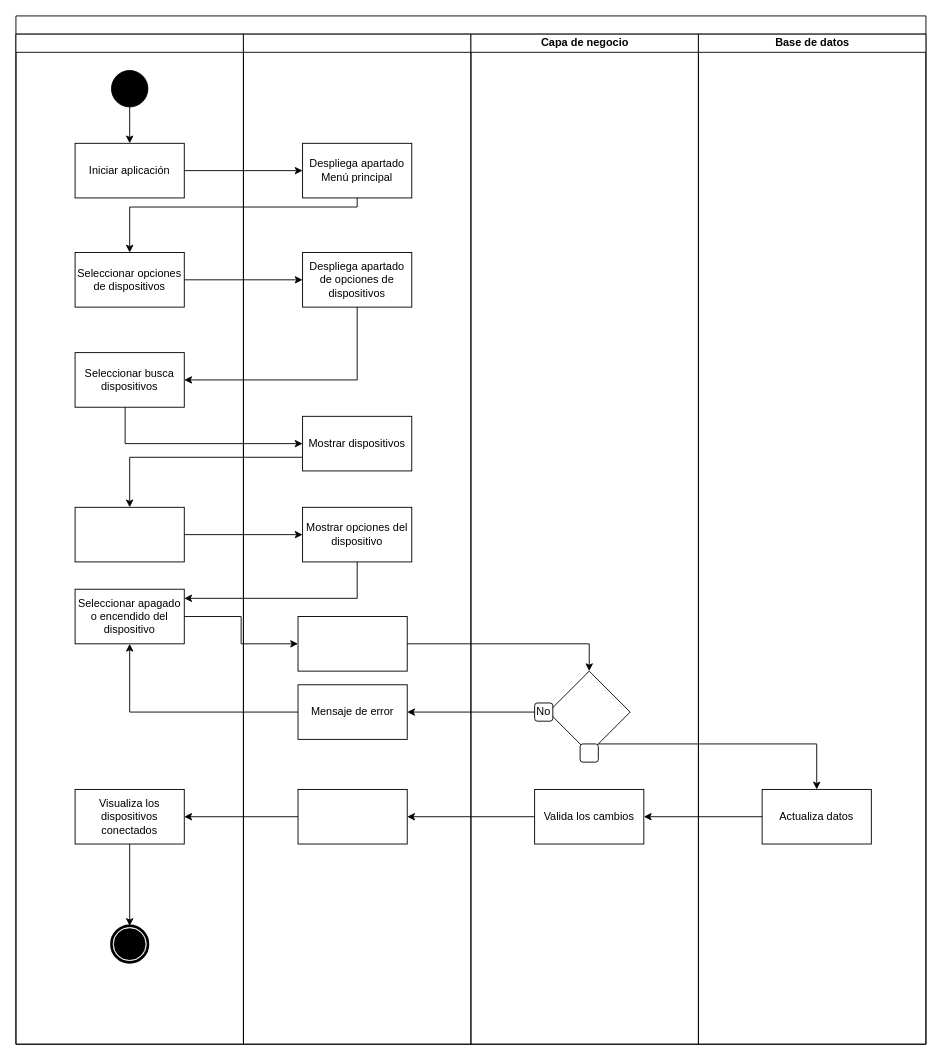
Some shapes in this 942 by 1060 pixel diagram are drawn without their labels. Each missing label, with the box of its shape:
Botón de encendido/apagado: (297, 616, 407, 671)
Interfaz: (243, 33, 471, 1044)
Notifica los cambios: (297, 789, 407, 844)
Seleccionar dispositivo: (74, 506, 184, 562)
Si: (579, 743, 598, 762)
Usuario: (15, 33, 243, 1044)
¿Se realizaron cambios?: (547, 670, 630, 753)
